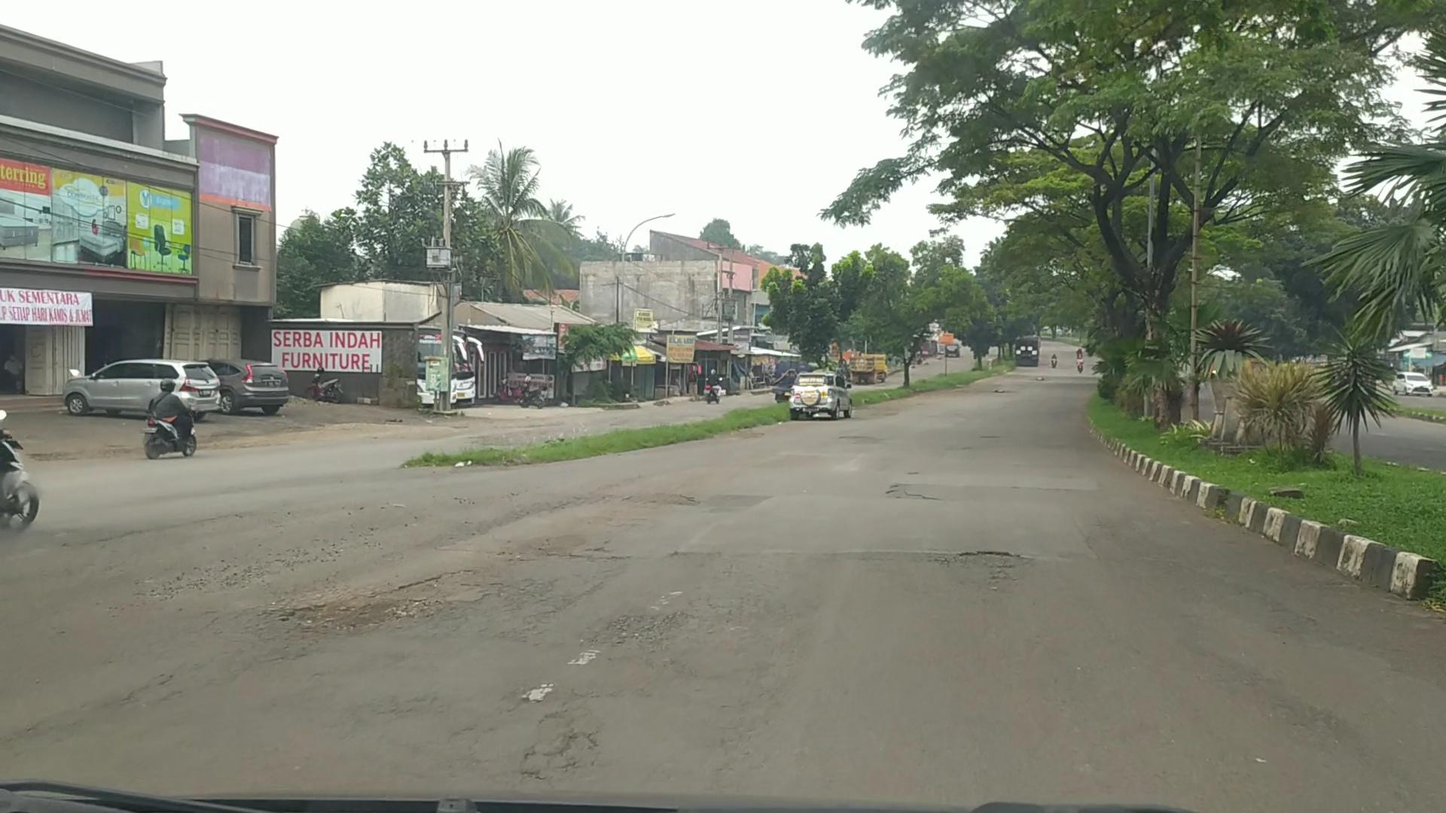pothole: (281, 566, 484, 632), (960, 546, 1026, 571), (884, 482, 931, 503)
